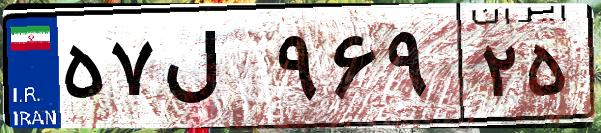2: (475, 38, 525, 113)
5: (57, 26, 110, 100), (525, 38, 570, 115)
6: (330, 28, 385, 110)
7: (110, 28, 158, 98)
9: (270, 28, 330, 110), (385, 28, 445, 110)
ل: (158, 20, 270, 120)
